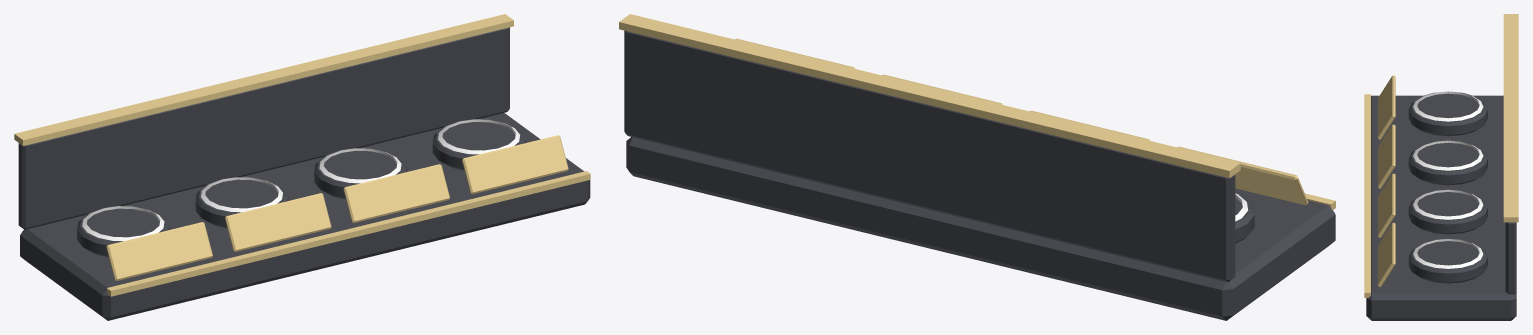
The model's file is Trophy_DisplayStand_v2.fbx.
3 views of the same model, side by side, from view 1: azimuth 30°, elevation 25°; view 2: azimuth 150°, elevation 25°; view 3: azimuth 270°, elevation 25° (orthographic). The views are drawn at different scales.
Parts seen in each view (by area): view 1: Stand_BackPanel, Stand_Plinth, Stand_BackCap, Stand_Trim_Front, Stand_Plaque_0, Stand_Plaque_1, Stand_Plaque_2, Stand_Plaque_3, Stand_Pedestal_1, Stand_Pedestal_3, Stand_Pedestal_2, Stand_Pedestal_0 (+4 smaller); view 2: Stand_BackPanel, Stand_Plinth, Stand_BackCap, Stand_Plaque_0, Stand_Pedestal_0; view 3: Stand_Plinth, Stand_BackCap, Stand_Pedestal_2, Stand_Pedestal_0, Stand_Pedestal_1, Stand_Pedestal_3, Stand_Trim_Front, Stand_BackPanel, Stand_Plaque_0, Stand_Plaque_2, Stand_Plaque_3, Stand_Plaque_1 (+4 smaller).
Part boxes in pixels (bbox=[...]): Stand_BackPanel: bbox=[18, 27, 509, 229]; Stand_Plinth: bbox=[20, 113, 590, 320]; Stand_BackCap: bbox=[14, 14, 513, 145]; Stand_Trim_Front: bbox=[107, 171, 590, 296]; Stand_Plaque_0: bbox=[106, 222, 212, 280]; Stand_Plaque_1: bbox=[225, 193, 331, 251]; Stand_Plaque_2: bbox=[343, 164, 449, 223]; Stand_Plaque_3: bbox=[462, 135, 568, 194]; Stand_Pedestal_1: bbox=[195, 177, 288, 228]; Stand_Pedestal_3: bbox=[432, 119, 525, 170]; Stand_Pedestal_2: bbox=[314, 148, 406, 199]; Stand_Pedestal_0: bbox=[77, 206, 169, 257]; Stand_BackPanel: bbox=[624, 30, 1235, 282]; Stand_Plinth: bbox=[626, 137, 1335, 320]; Stand_BackCap: bbox=[619, 14, 1240, 178]; Stand_Plaque_0: bbox=[1177, 146, 1308, 205]; Stand_Pedestal_0: bbox=[1235, 192, 1254, 243]; Stand_Plinth: bbox=[1366, 95, 1516, 320]; Stand_BackCap: bbox=[1503, 14, 1518, 222]; Stand_Pedestal_2: bbox=[1408, 190, 1487, 234]; Stand_Pedestal_0: bbox=[1408, 91, 1487, 136]; Stand_Pedestal_1: bbox=[1408, 141, 1487, 185]; Stand_Pedestal_3: bbox=[1408, 238, 1487, 283]; Stand_Trim_Front: bbox=[1364, 94, 1370, 297]; Stand_BackPanel: bbox=[1505, 222, 1516, 294]; Stand_Plaque_0: bbox=[1378, 75, 1395, 139]; Stand_Plaque_2: bbox=[1378, 173, 1395, 237]; Stand_Plaque_3: bbox=[1378, 223, 1395, 287]; Stand_Plaque_1: bbox=[1378, 124, 1395, 188].
Bounding box in the file's own units: 0.704 × 0.172 × 0.226.
